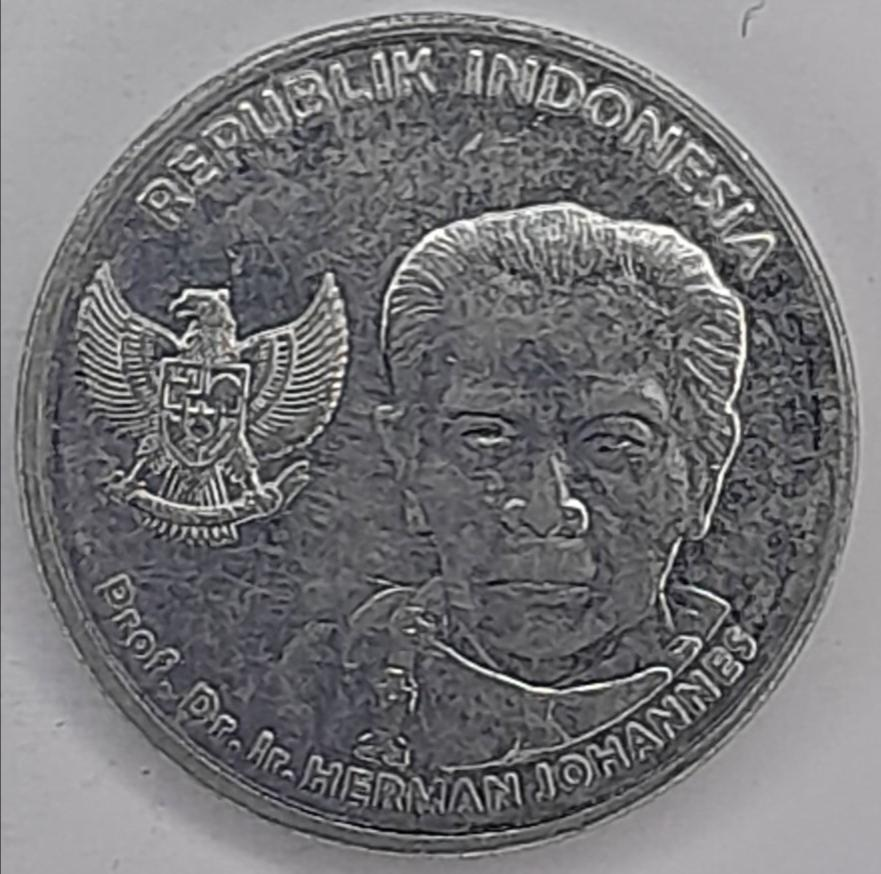coin_100_e2016: (10, 4, 865, 859)
